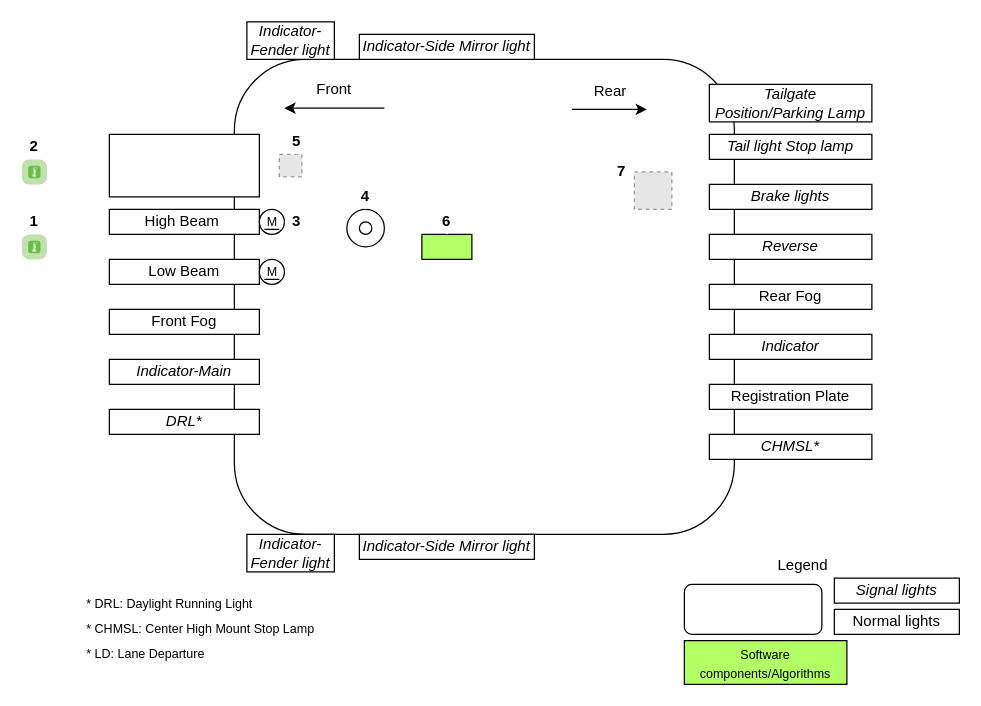
Image size: 981x706. Some labels were removed from this diagram. Grey dashed boxes stand in for pictures. The shapes that lost their labels are listed below. From the top down, each one's box as (x1, y1, x2, y2) in pixels, then its label:
(108, 133, 259, 197): Front Position/Parking Lamp
(421, 233, 472, 259): LD
(683, 583, 822, 634): Vehicle body/boundary
